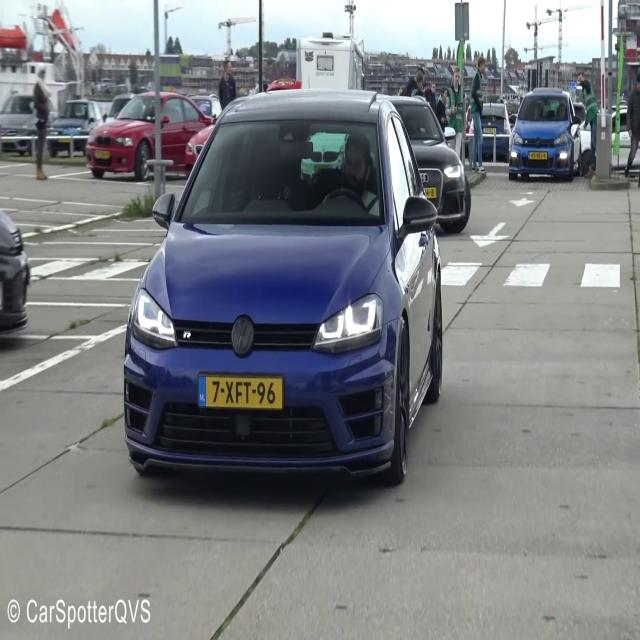number_plate: (194, 368, 284, 409)
